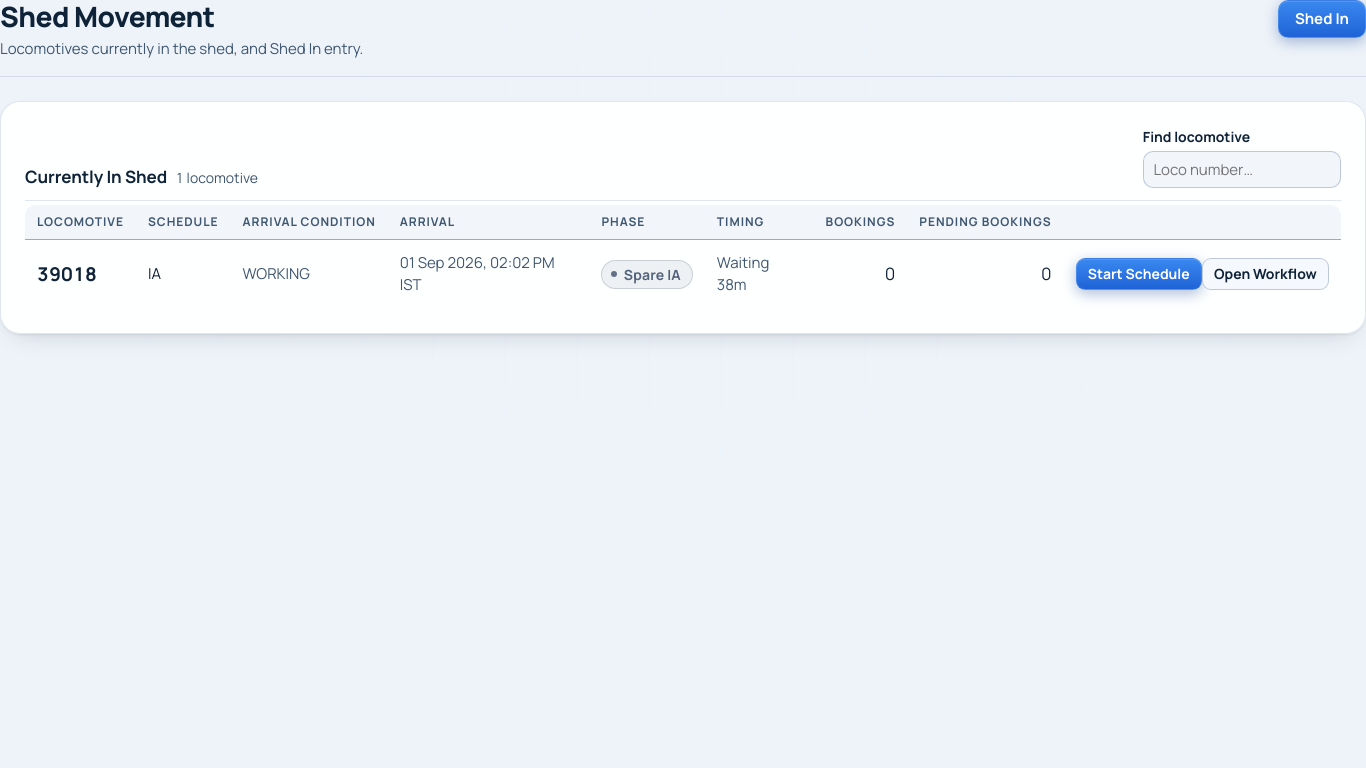
Test: Shed lifecycle phases › cancelling the dialog changes nothing
This screenshot has width=1366, height=768.
Click the button "Start Schedule": point(1139, 274) [1076,258,1202,290]
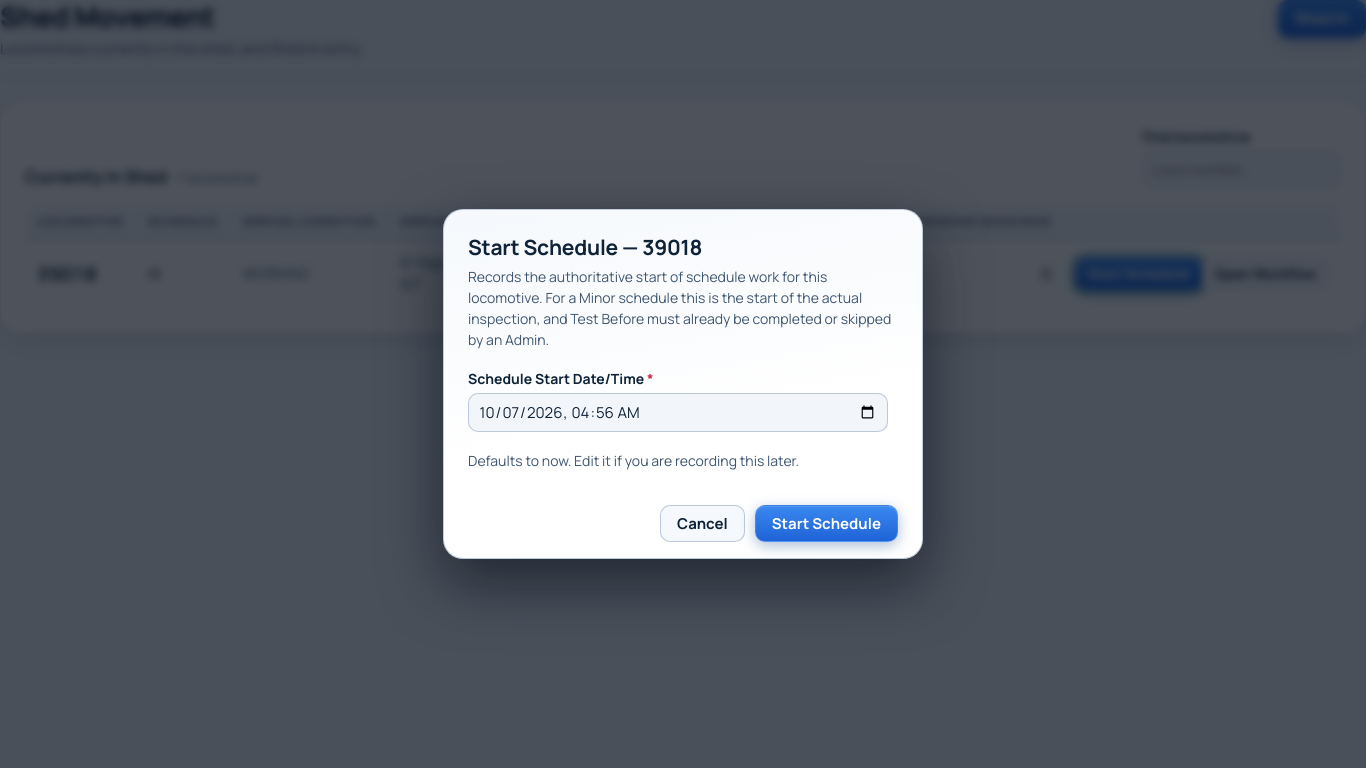
Click the button "Cancel": point(702, 523) [660,505,745,542]
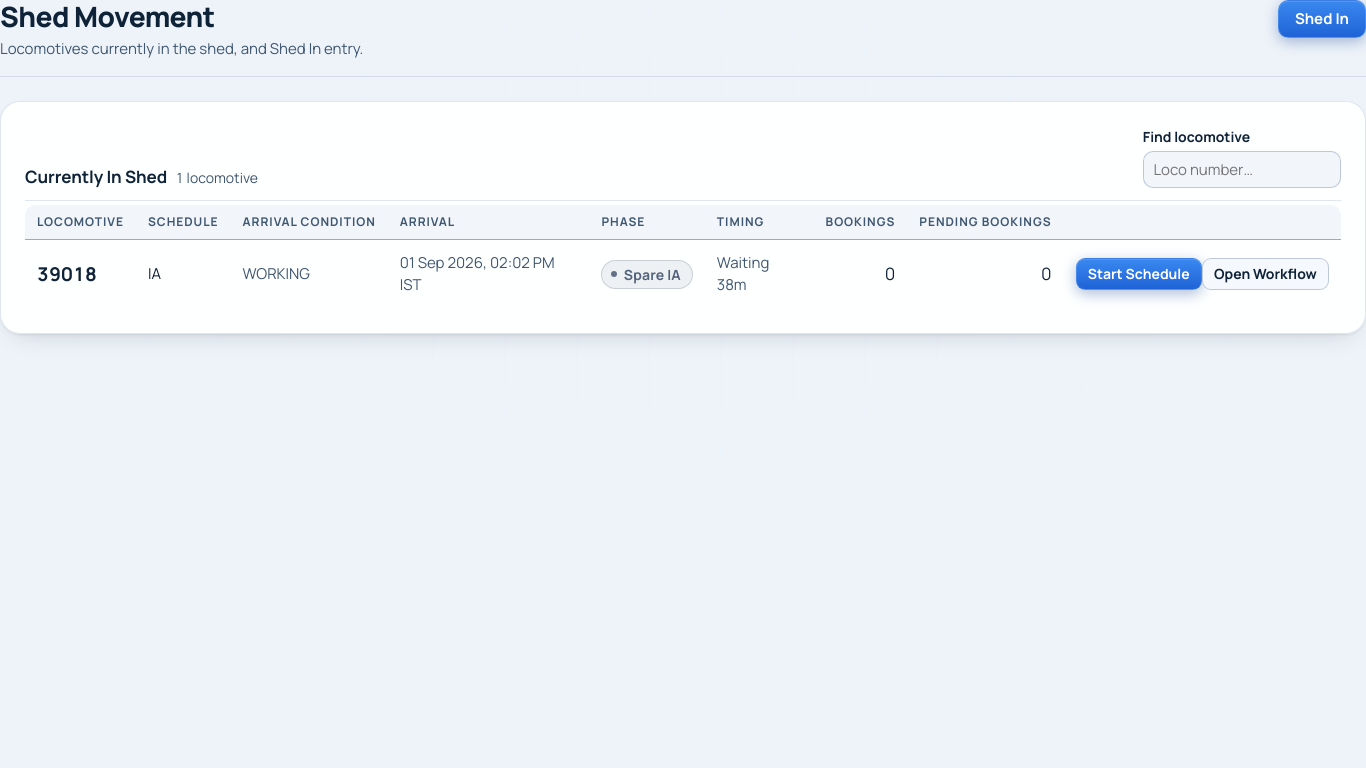
Expected: the text "Spare IA" is shown, [602,260,693,288]
Expected: the dialog is gone
